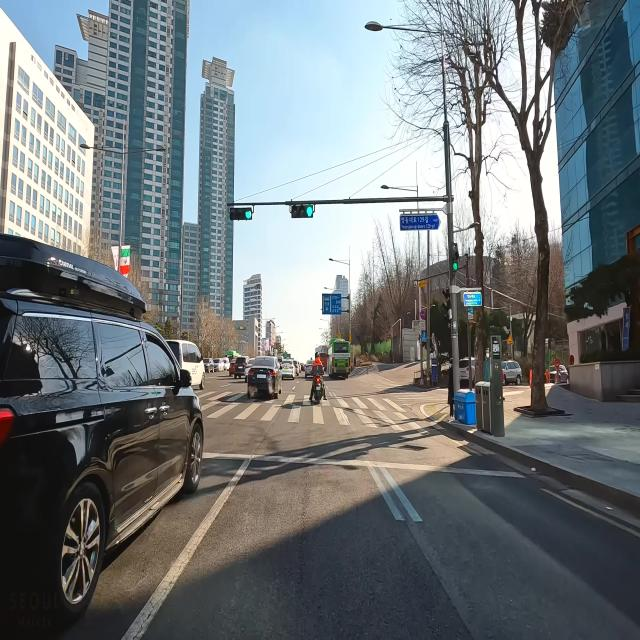Green Light: (306, 204, 313, 218), (245, 208, 252, 221)
